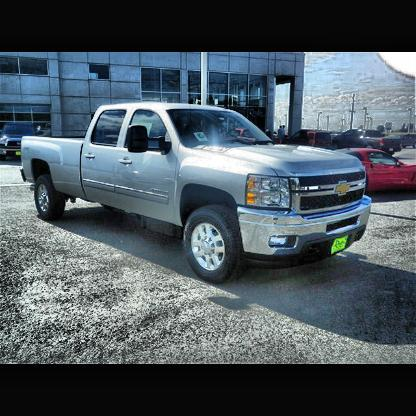Chevrolet Silverado 1500 Hybrid Crew Cab 2012: (20, 104, 374, 282)
